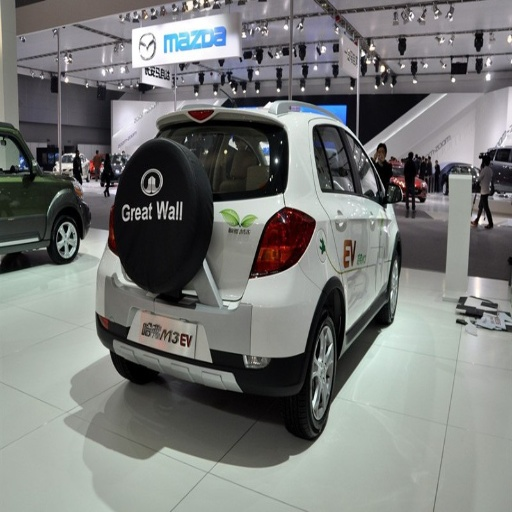back_bumper: (143, 265, 319, 394)
back_right_door: (315, 122, 363, 324)
tailgate: (143, 218, 206, 276), (207, 252, 246, 301)
trunk: (156, 266, 238, 339), (208, 200, 281, 278)
